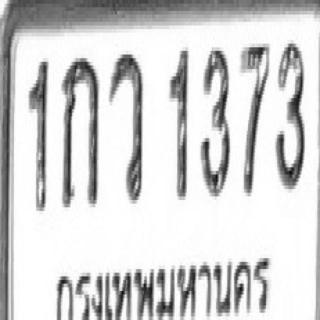A01: (61, 55, 98, 207)
A37: (108, 51, 143, 204)
N01: (28, 58, 48, 211), (169, 47, 188, 200)
N03: (274, 40, 305, 189), (200, 47, 230, 196)
N07: (240, 40, 269, 196)
P04: (54, 252, 272, 320)
